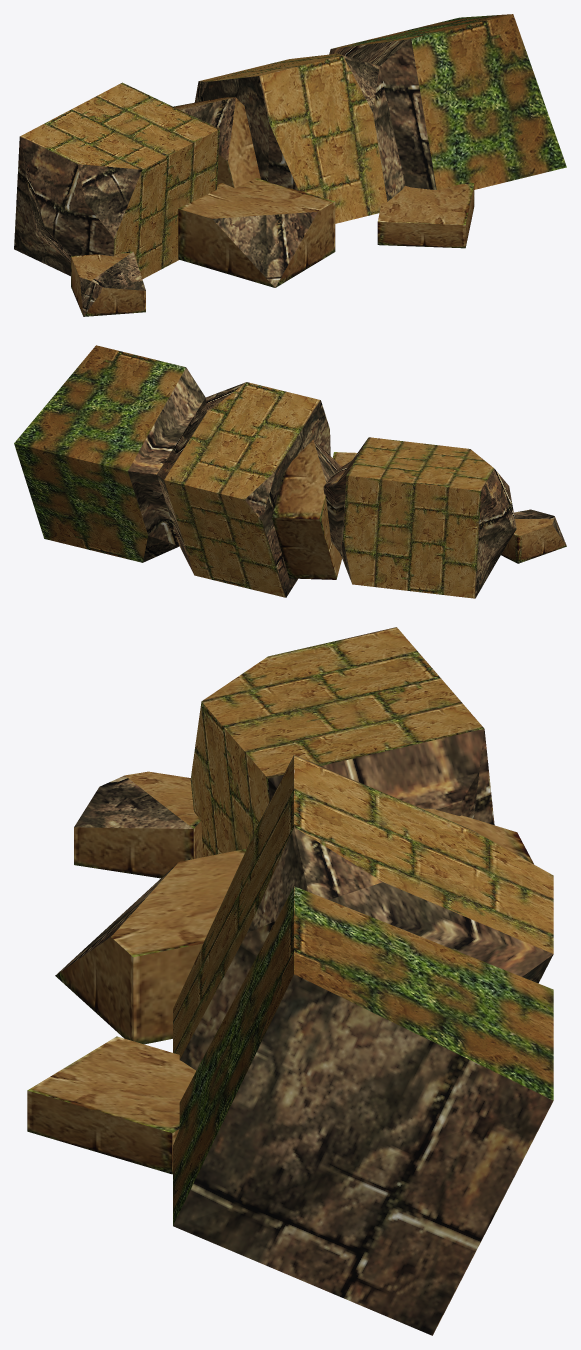
Rendered from Trap_Block01.FBX.
The picture shows the model from 3 angles, top to bottom: view 1: azimuth 30°, elevation 25°; view 2: azimuth 150°, elevation 25°; view 3: azimuth 270°, elevation 25°; orthographic projection. The views are drawn at different scales.
Visible parts, largest first — view 1: c; view 2: c; view 3: c.
Boxes of the visible parts, x1,y1,x2,y2 form: c: (14, 14, 566, 316); c: (14, 345, 566, 598); c: (27, 627, 553, 1335).
Bounding box in the file's own units: 406 × 151 × 209.
